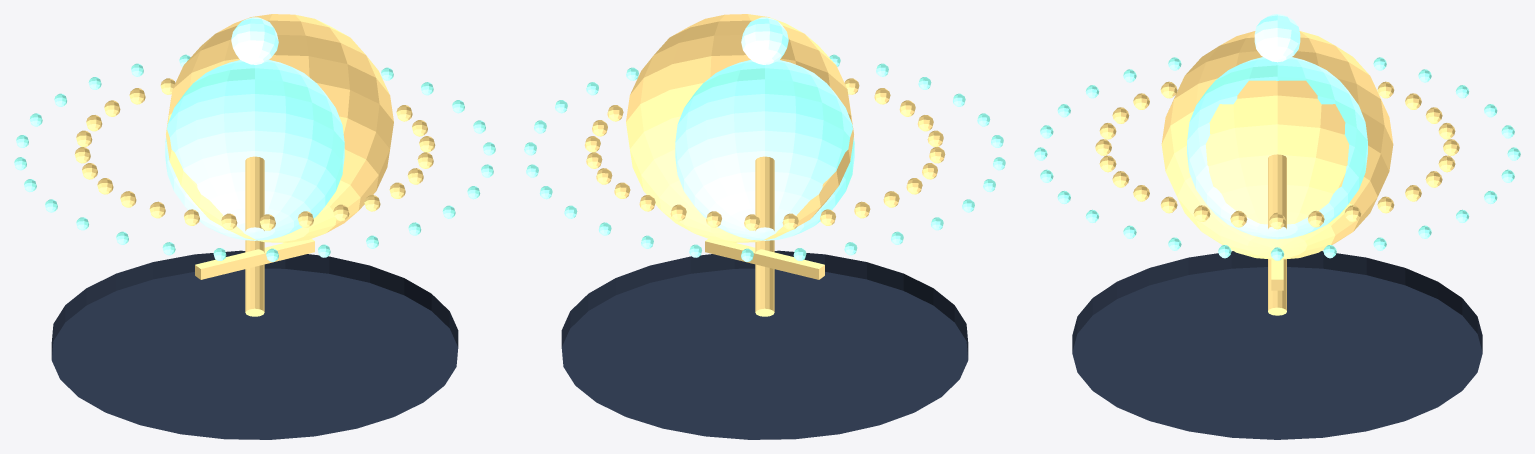
The model's file is muse-dee-monas.glb.
3 renders of one model, left to right at view 1: azimuth 30°, elevation 25°; view 2: azimuth 150°, elevation 25°; view 3: azimuth 270°, elevation 25°, orthographic.
Parts seen in each view (by area): view 1: muse-plinth, monas-core, dee-crescent, sigil-stem, sigil-cross, sigil-tip; view 2: muse-plinth, monas-core, dee-crescent, sigil-stem, sigil-cross, sigil-tip; view 3: muse-plinth, dee-crescent, monas-core, sigil-stem, sigil-tip.
Part boxes in pixels (x1=…): muse-plinth: x1=51, y1=250, x2=458, y2=439; monas-core: x1=165, y1=60, x2=344, y2=240; dee-crescent: x1=166, y1=14, x2=393, y2=242; sigil-stem: x1=245, y1=156, x2=264, y2=316; sigil-cross: x1=195, y1=239, x2=314, y2=279; sigil-tip: x1=231, y1=17, x2=278, y2=64; muse-plinth: x1=561, y1=250, x2=968, y2=439; monas-core: x1=675, y1=60, x2=854, y2=240; dee-crescent: x1=626, y1=14, x2=853, y2=242; sigil-stem: x1=755, y1=156, x2=774, y2=316; sigil-cross: x1=705, y1=239, x2=824, y2=279; sigil-tip: x1=741, y1=17, x2=788, y2=64; muse-plinth: x1=1072, y1=251, x2=1482, y2=439; dee-crescent: x1=1161, y1=31, x2=1393, y2=259; monas-core: x1=1187, y1=57, x2=1367, y2=239; sigil-stem: x1=1268, y1=154, x2=1286, y2=315; sigil-tip: x1=1254, y1=14, x2=1300, y2=62.
Size of what is drawn, in the model's own units: 2.02 by 1.54 by 2.02.
